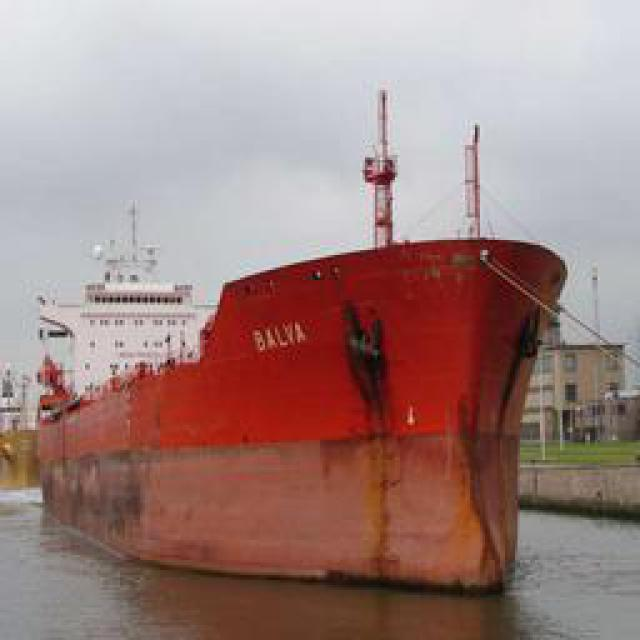Ship: (27, 172, 575, 600)
